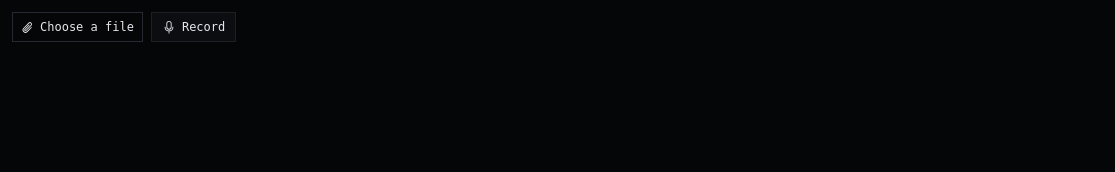
Test: the record button on a phone › says why, and names the address, rather than blaming the device
The width and height of the screenshot is (1115, 172).
Click the button "Record". click: (194, 27)
box: [151,12,236,42]
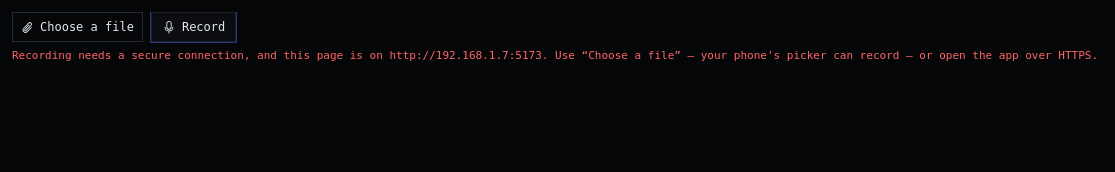
Now the text "secure connection" shows "192.168.1.7", box [12,49,1098,62]
